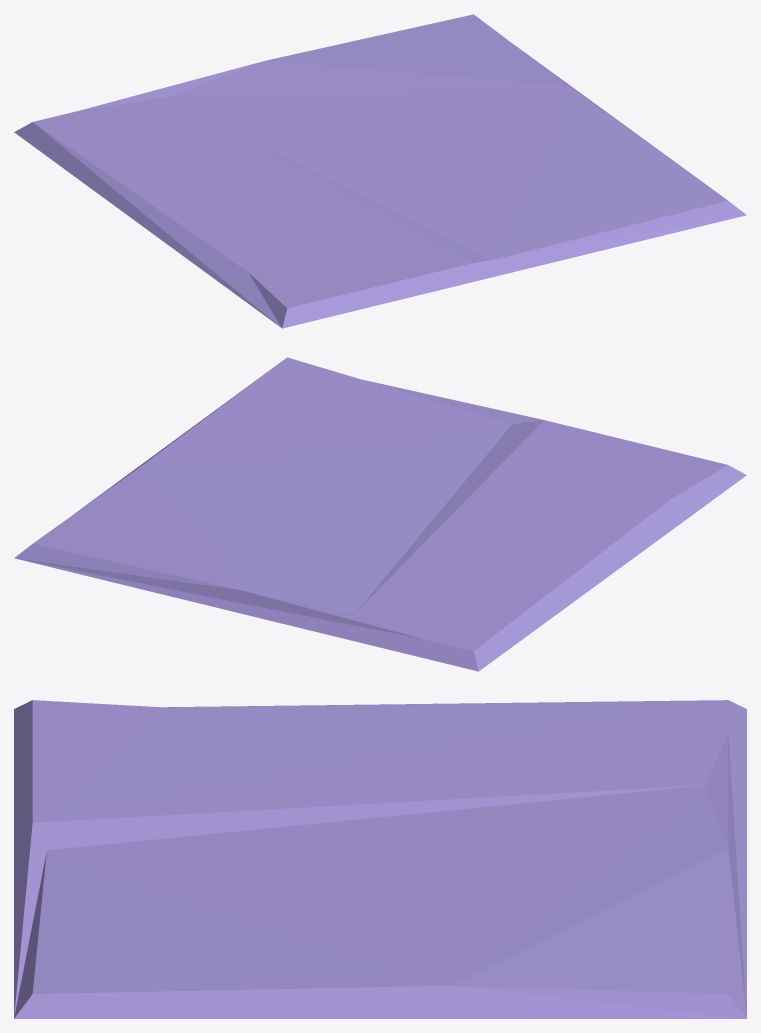
File: Fliese01.FBX
3 views of the same model, one above another, from view 1: azimuth 30°, elevation 25°; view 2: azimuth 150°, elevation 25°; view 3: azimuth 270°, elevation 25° (orthographic). The views are drawn at different scales.
Visible parts, largest first — view 1: Gehweg_01; view 2: Gehweg_01; view 3: Gehweg_01.
Boxes of the visible parts, x1=… form: Gehweg_01: x1=14, y1=14, x2=746, y2=328; Gehweg_01: x1=14, y1=357, x2=746, y2=671; Gehweg_01: x1=14, y1=700, x2=746, y2=1018.
Bounding box in the file's own units: 39.37 × 1.36 × 39.37.
